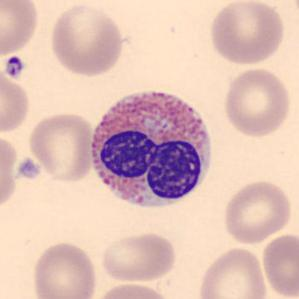Eosinophil: (85, 79, 218, 218)
Platelets: (17, 158, 44, 183), (3, 54, 26, 80)
RBC: (47, 2, 125, 77), (206, 0, 286, 67), (221, 65, 293, 138), (26, 109, 96, 183), (220, 178, 294, 245), (98, 230, 179, 284), (29, 239, 99, 299), (196, 245, 268, 299), (260, 231, 298, 298), (0, 0, 42, 57), (0, 68, 32, 136), (0, 131, 20, 214), (90, 280, 174, 299), (287, 0, 298, 22)
